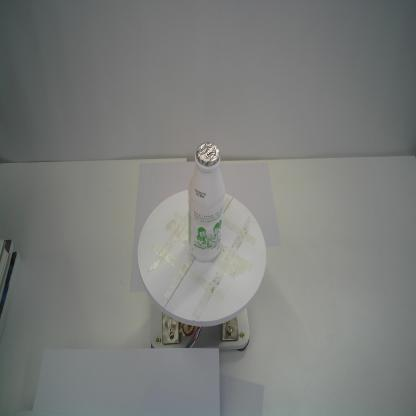Milk: (187, 141, 225, 263)
